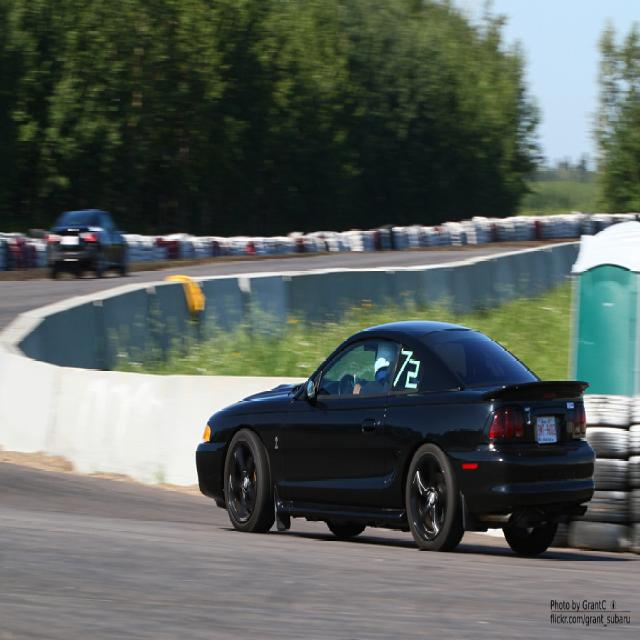car: (197, 316, 593, 554), (43, 200, 128, 282)
